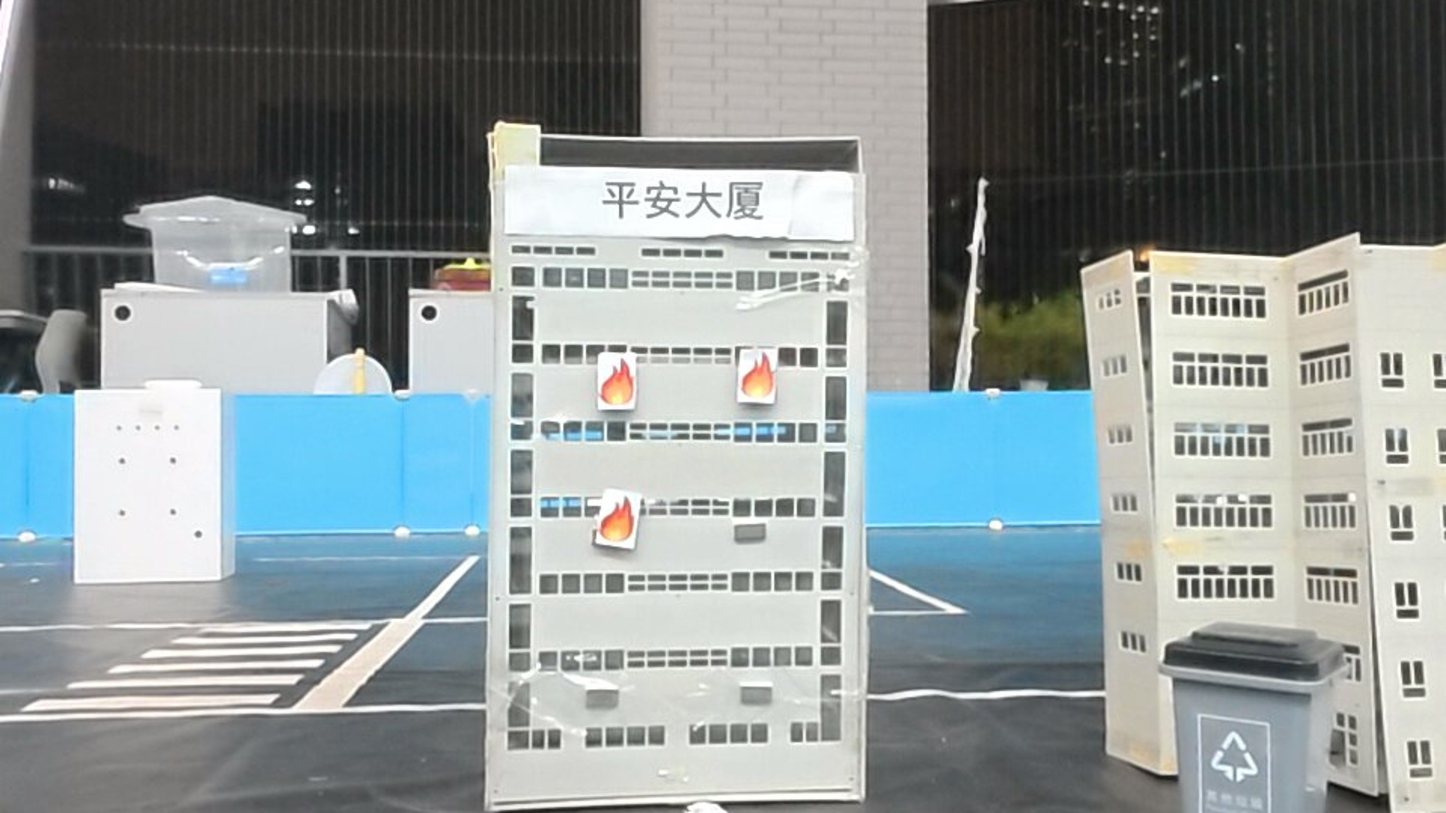fire: (596, 491, 642, 551), (597, 353, 640, 409), (738, 348, 780, 405)
